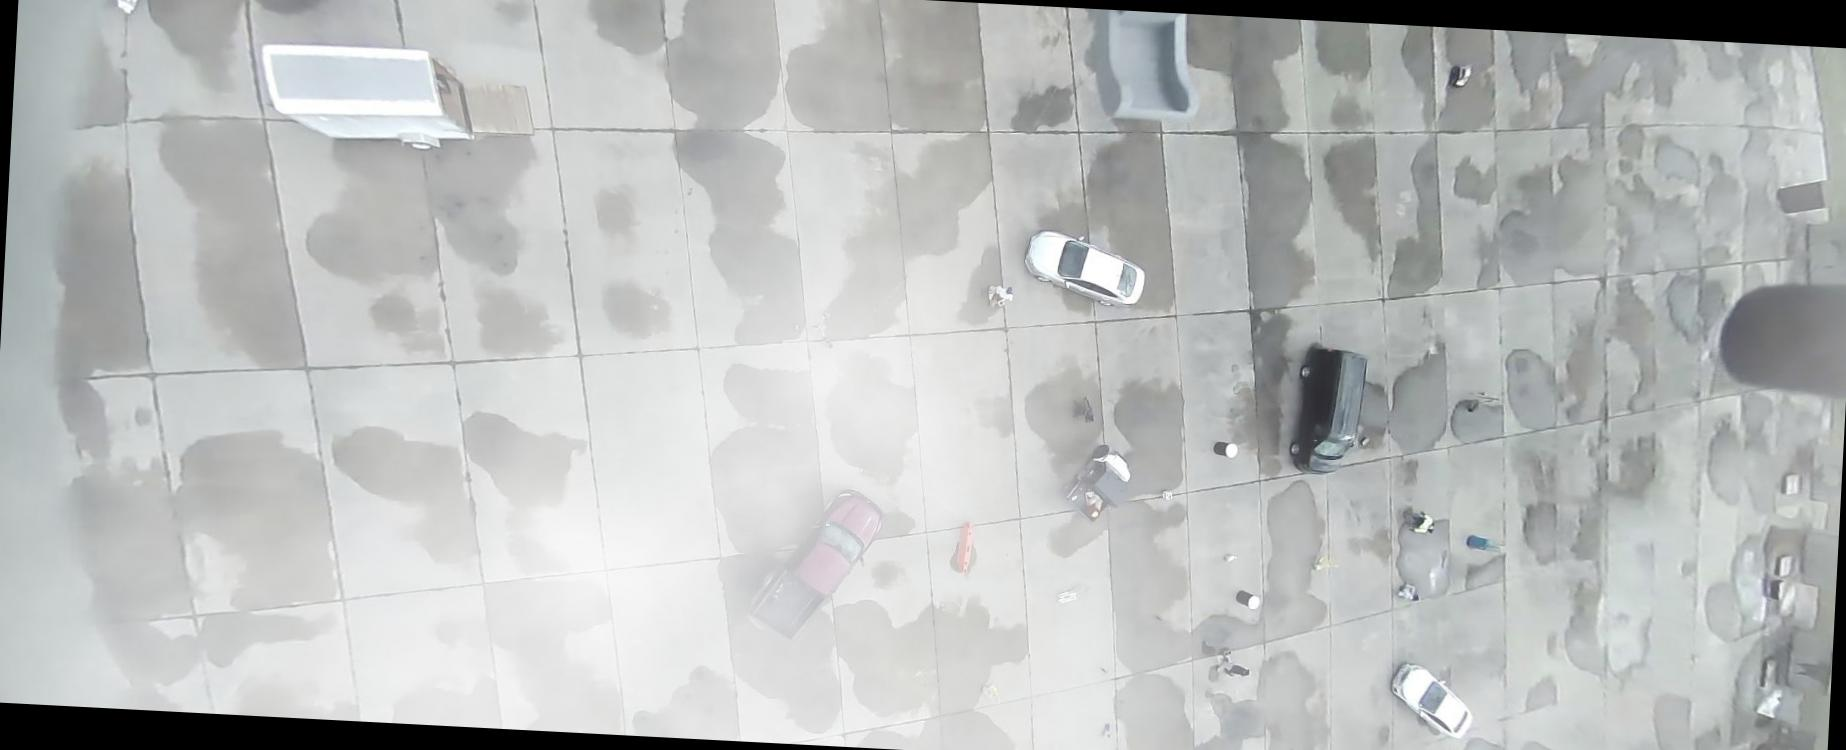vehicle: (744, 483, 885, 646), (1286, 343, 1368, 476), (1022, 227, 1148, 307), (1388, 661, 1475, 739), (1061, 442, 1134, 526)
